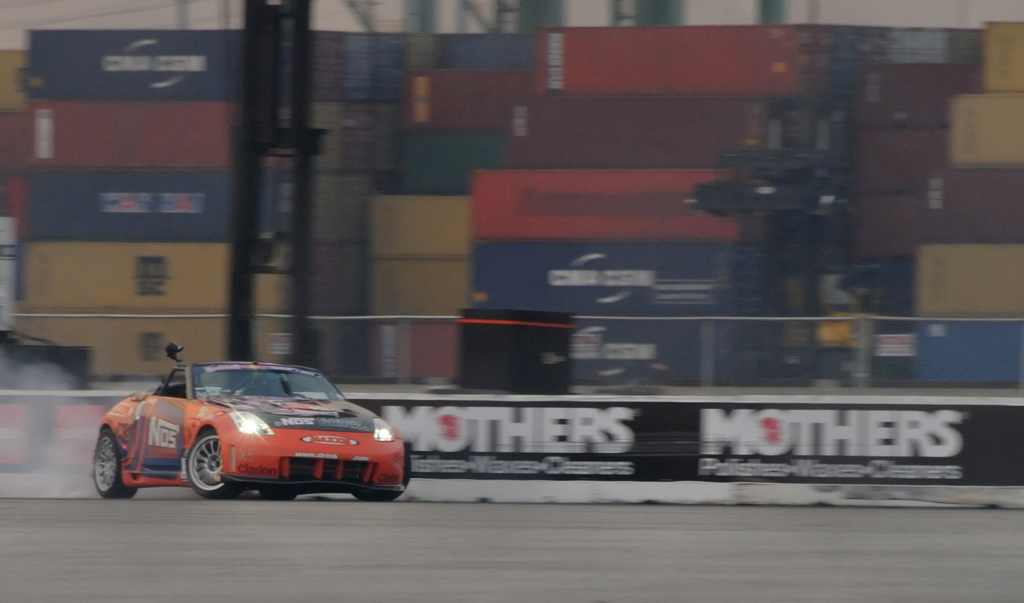mobil: (77, 345, 424, 511)
